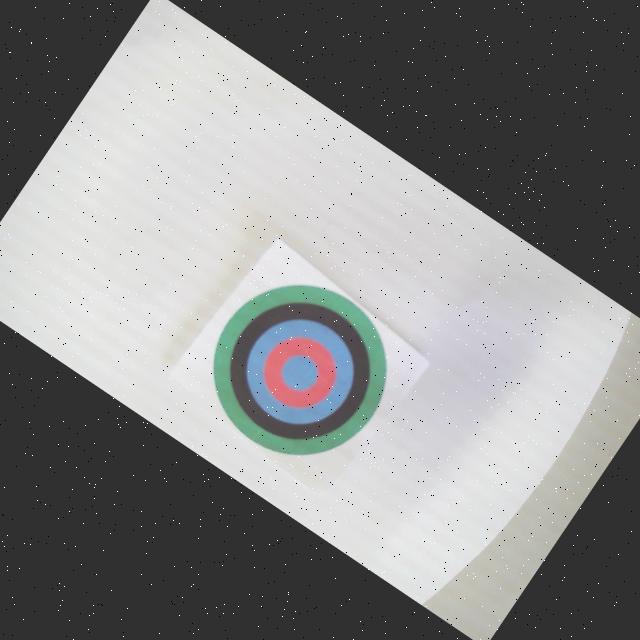COGNITIVE: (180, 249, 422, 492)
